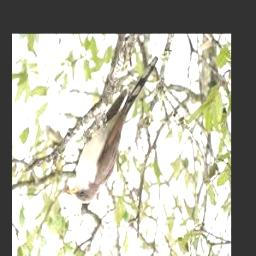Cuckoo: (68, 54, 159, 204)
